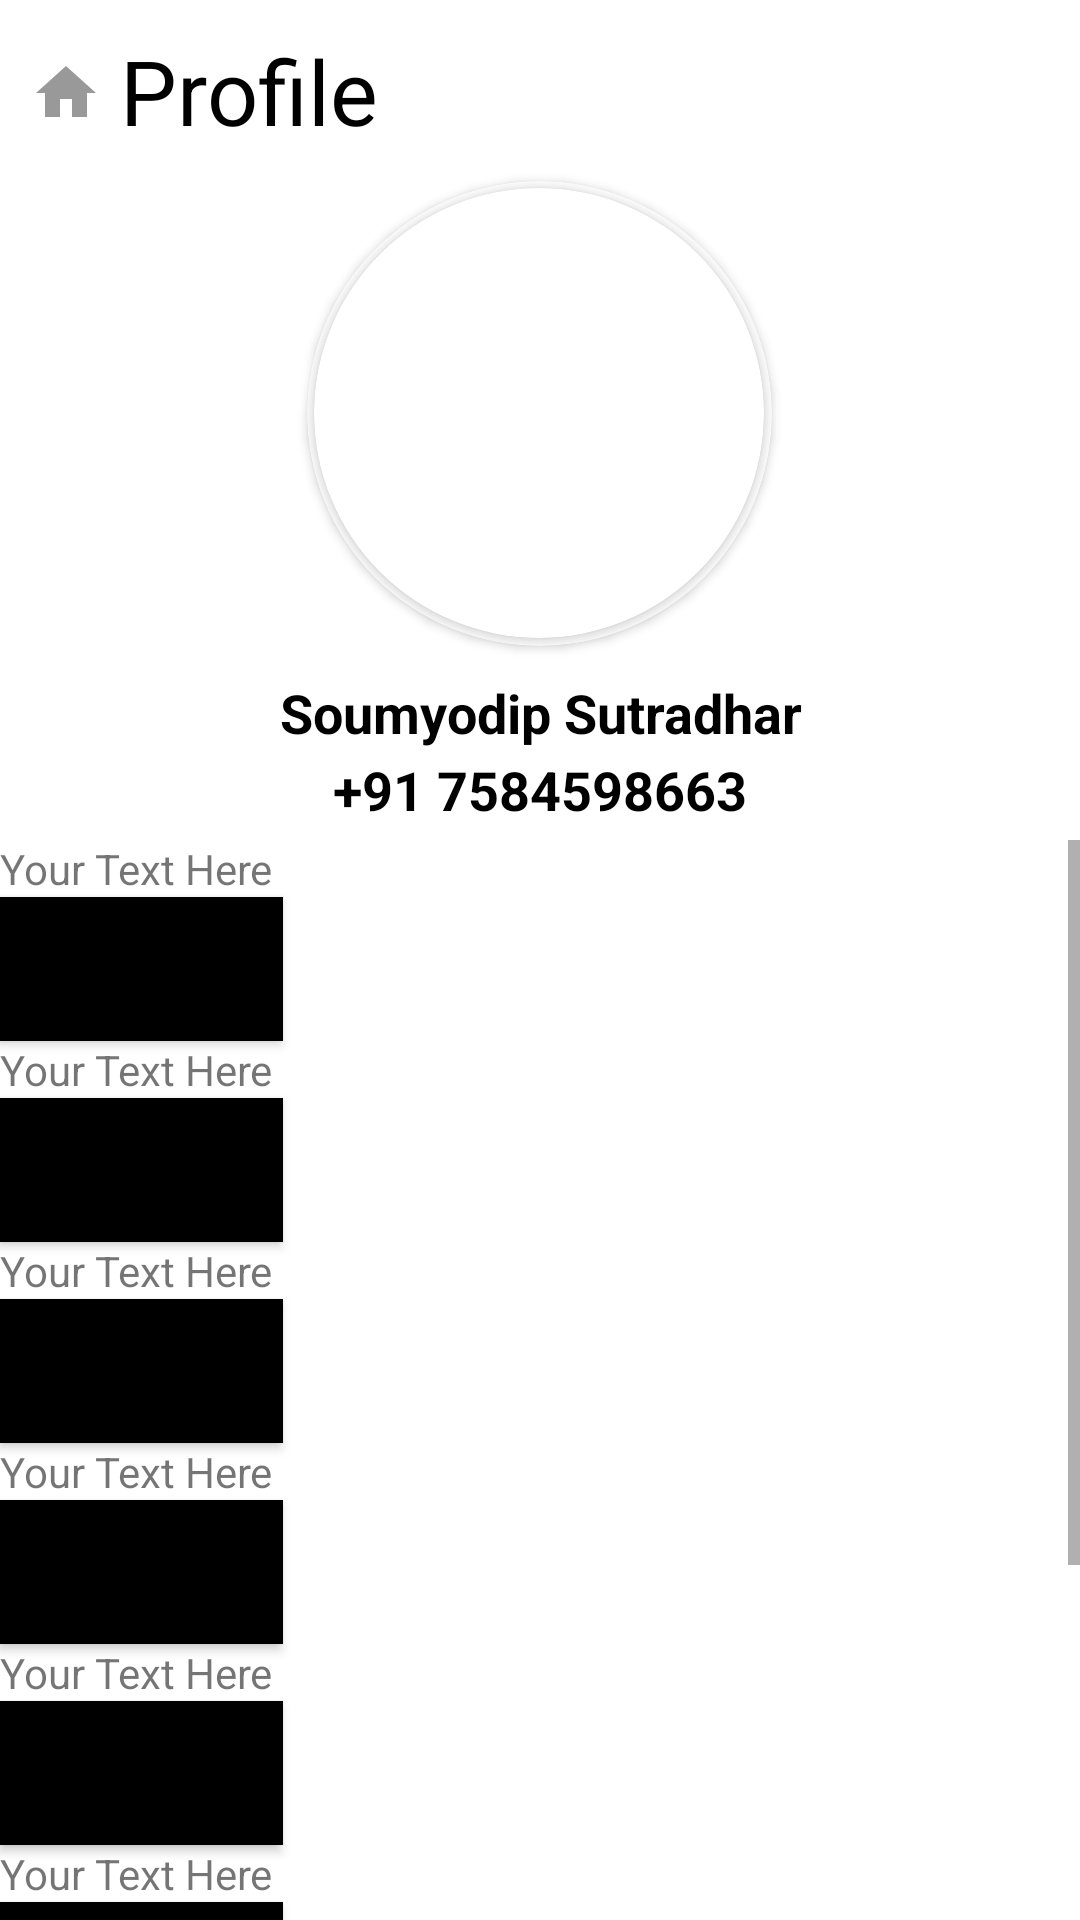

Screen size 1080×1920. Icon name, then its box in pixels as {"x1": x1, "y1": y1, "x2": x2, "y2": y2}:
home: {"x1": 36, "y1": 66, "x2": 96, "y2": 117}
